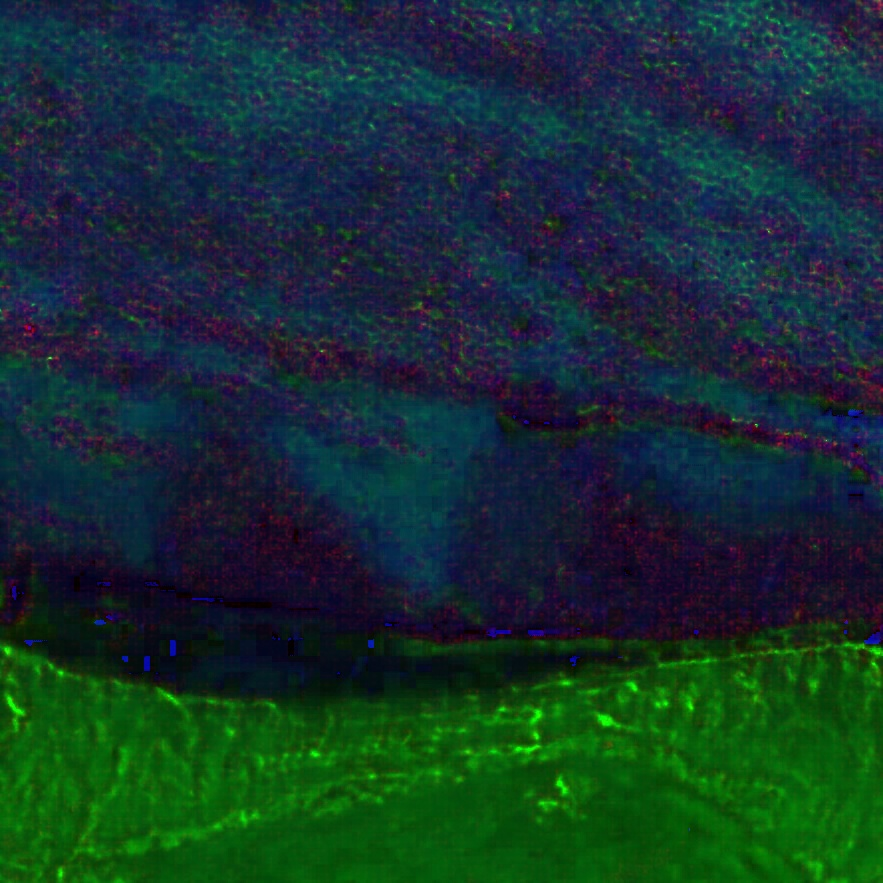rip_current: (260, 394, 515, 610)
